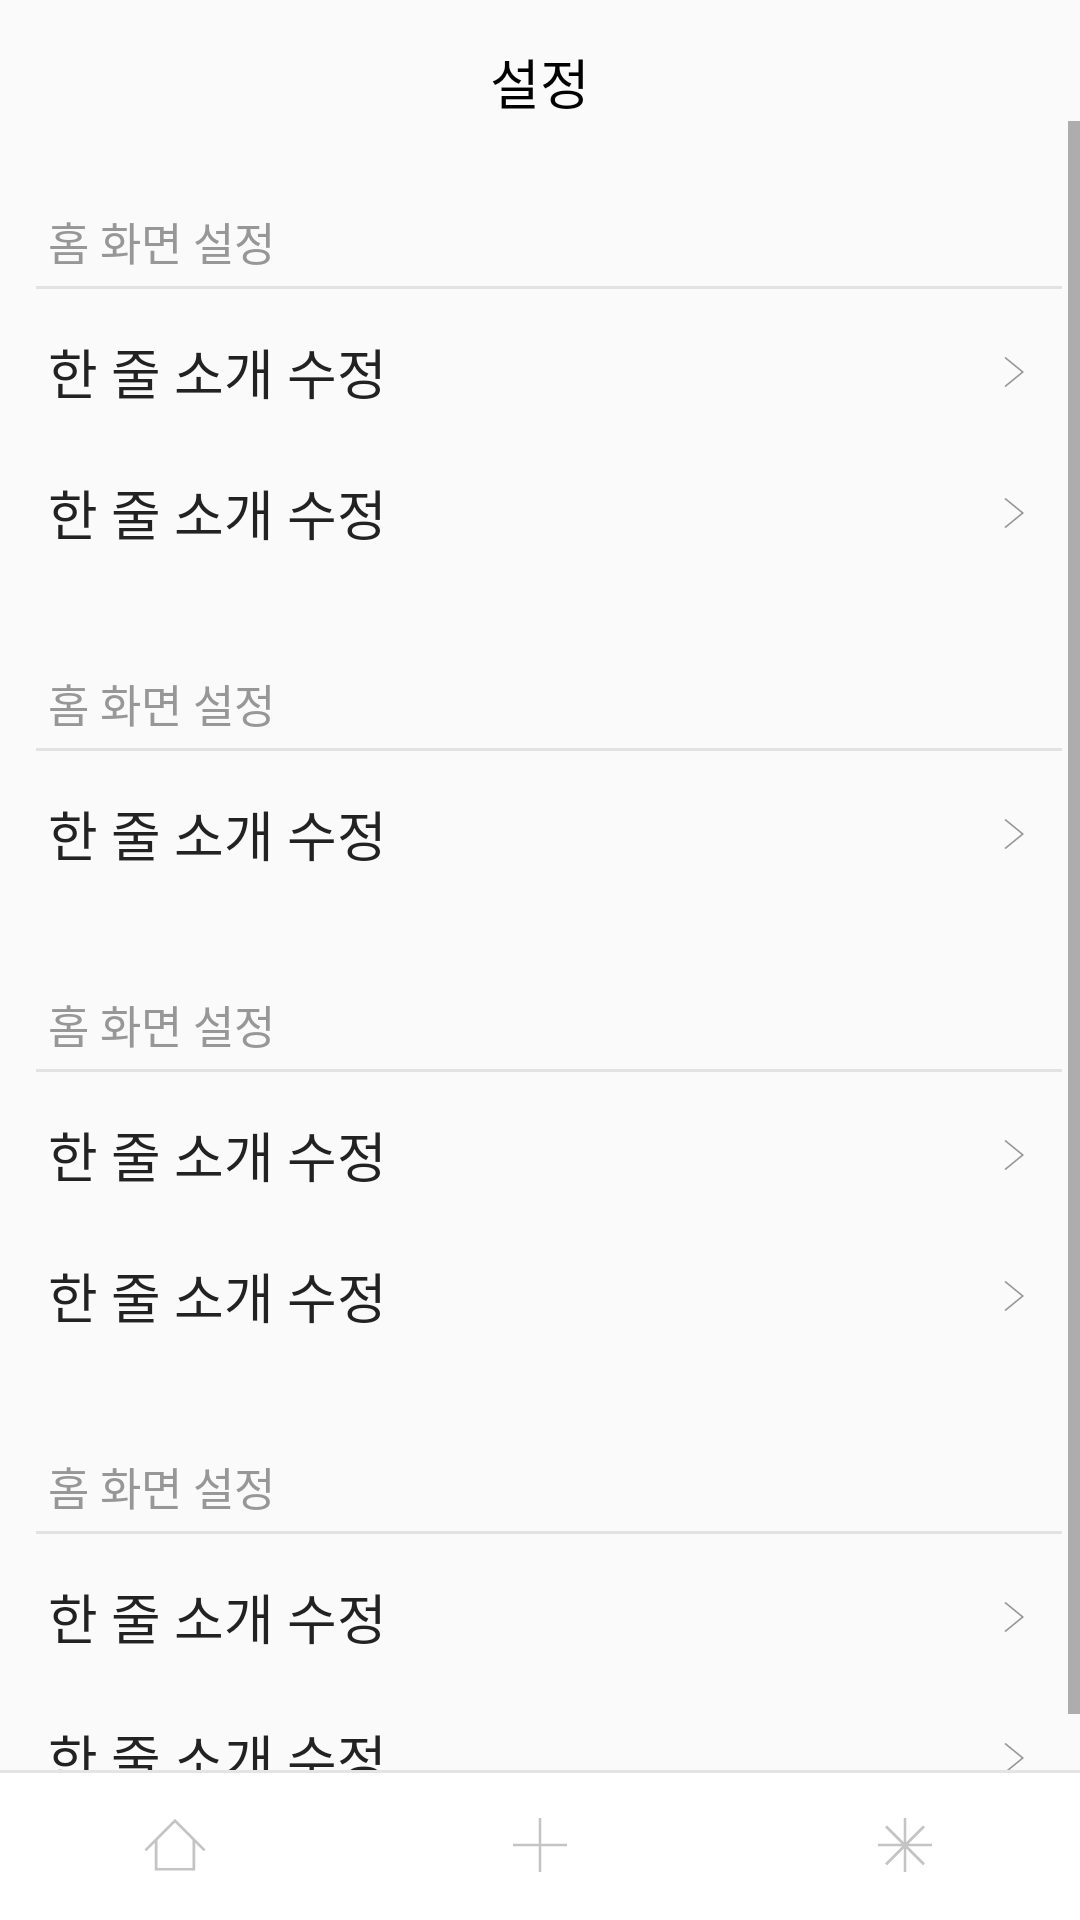

Screen size 1080 × 1920. Icon name, then its center in pixels as (x,y):
contents add: (540,1845)
home: (175,1845)
